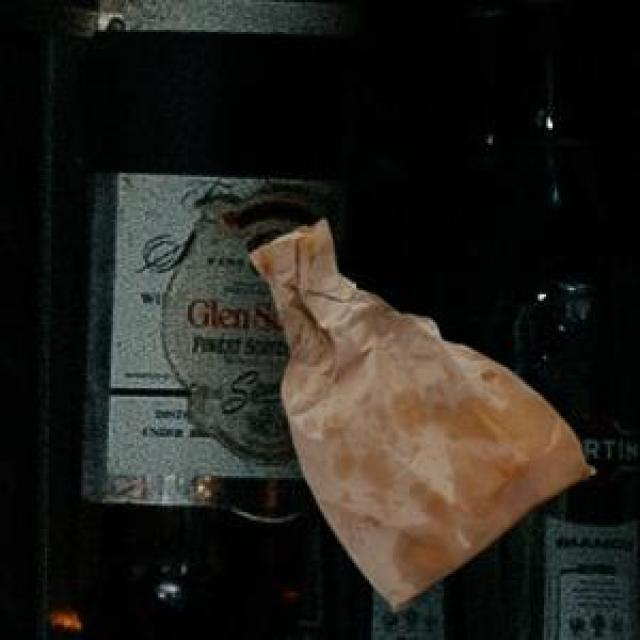paper: (245, 216, 591, 606)
